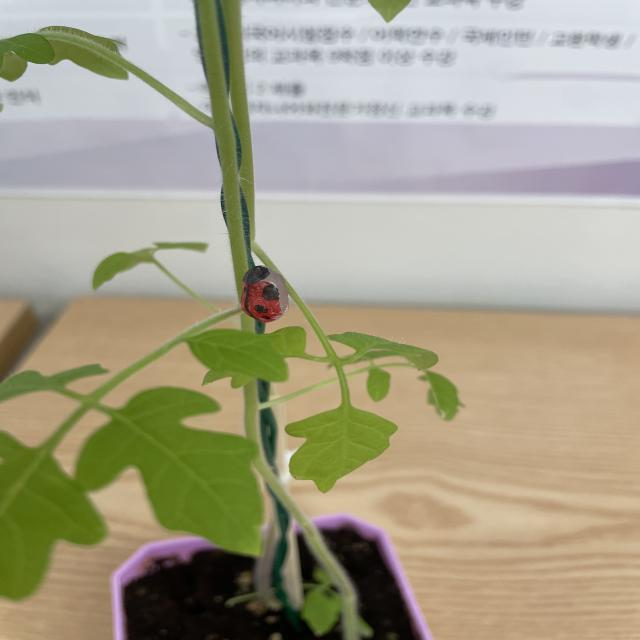bug: (220, 259, 311, 324)
